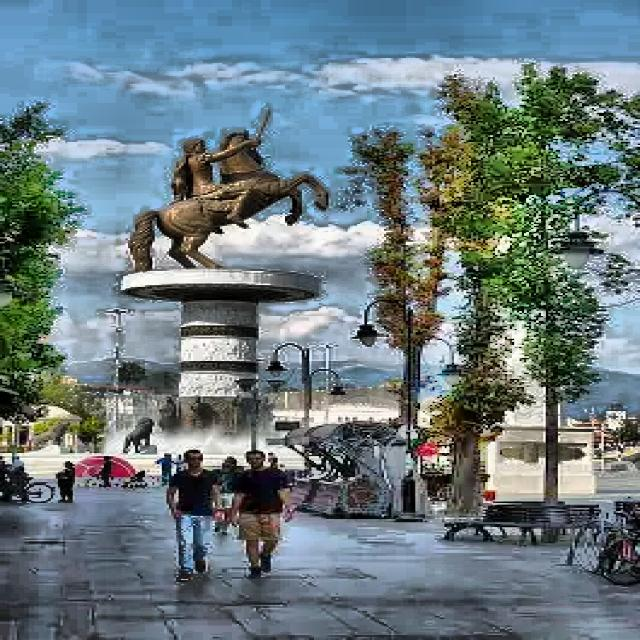alexander the great monument: (110, 106, 330, 443)
